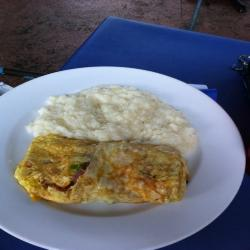omelette: (18, 138, 201, 218)
